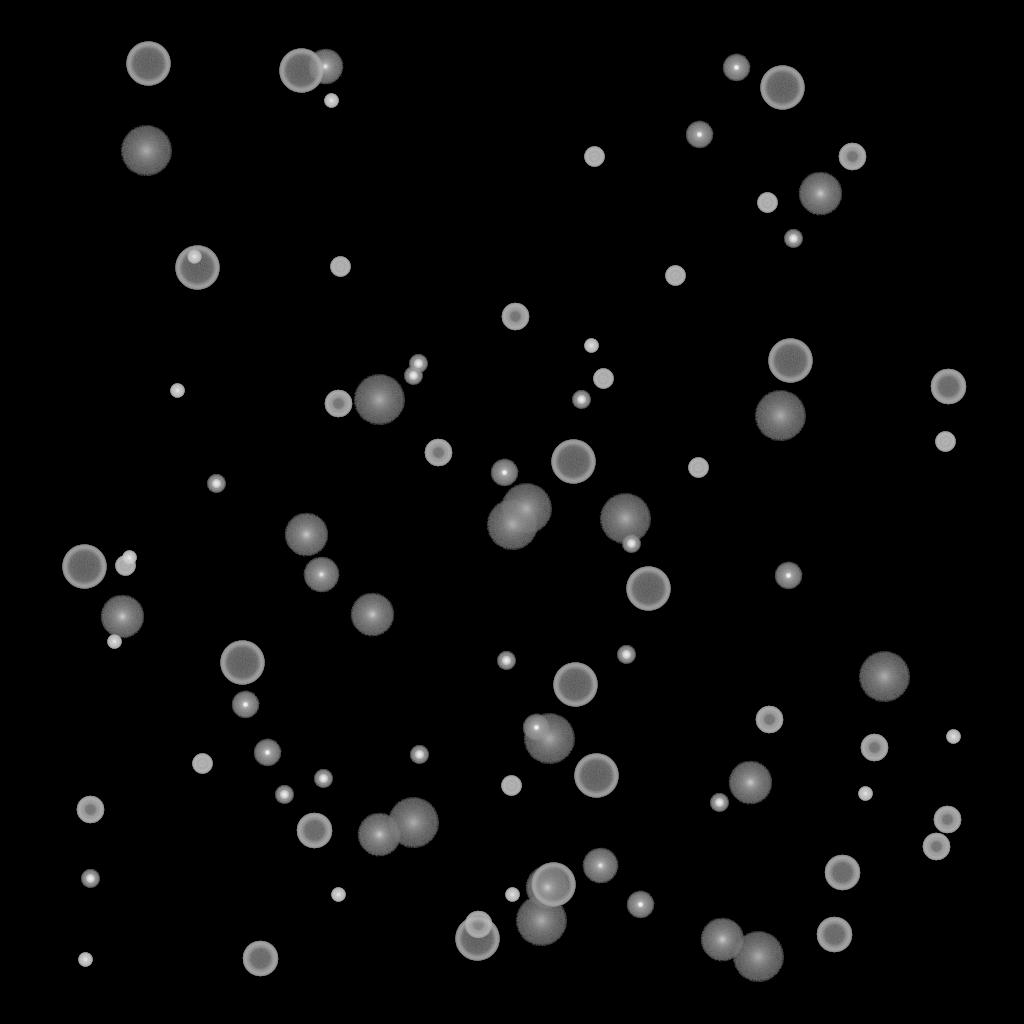depth:-10: (522, 714, 550, 742), (231, 691, 259, 719), (685, 121, 713, 149), (253, 739, 281, 767), (722, 54, 750, 82), (490, 459, 518, 487), (774, 562, 802, 590), (626, 891, 654, 919)
depth:-20: (207, 475, 225, 493), (81, 870, 99, 888), (410, 746, 428, 764), (710, 794, 728, 812), (572, 391, 590, 409), (617, 646, 635, 664), (622, 535, 640, 553), (314, 770, 332, 788), (409, 355, 427, 373), (784, 230, 802, 248), (497, 652, 515, 670), (275, 786, 293, 804), (404, 367, 422, 385)
depth:-30: (187, 250, 201, 264), (858, 787, 872, 801), (331, 888, 345, 902), (170, 384, 184, 398), (584, 339, 598, 353), (122, 551, 136, 565), (324, 94, 338, 108), (505, 888, 519, 902), (107, 635, 121, 649), (946, 730, 960, 744), (78, 953, 92, 967)
depth:-40: (665, 266, 685, 286), (935, 432, 955, 452), (192, 754, 212, 774), (593, 369, 613, 389), (330, 257, 350, 277), (688, 458, 708, 478), (757, 193, 777, 213), (501, 776, 521, 796), (115, 556, 135, 576), (584, 147, 604, 167)
depth:-50: (933, 806, 961, 834), (464, 911, 492, 939), (755, 706, 783, 734), (922, 833, 950, 861), (76, 796, 104, 824), (324, 390, 352, 418), (838, 143, 866, 171), (501, 303, 529, 331), (860, 734, 888, 762), (424, 439, 452, 467)
depth:-60: (824, 855, 860, 891), (930, 369, 966, 405), (296, 813, 332, 849), (242, 941, 278, 977), (816, 917, 852, 953)
depth:-70: (455, 917, 499, 961), (760, 66, 804, 110), (279, 49, 323, 93), (553, 663, 597, 707), (531, 863, 575, 907), (220, 641, 264, 685), (126, 42, 170, 86), (551, 440, 595, 484), (768, 339, 812, 383), (175, 246, 219, 290), (574, 754, 618, 798), (62, 545, 106, 589), (626, 567, 670, 611)
depth:0: (582, 848, 618, 884), (307, 49, 343, 85), (303, 557, 339, 593)
depth:10: (284, 513, 328, 557), (728, 761, 772, 805), (525, 866, 569, 910), (357, 813, 401, 857), (100, 595, 144, 639), (350, 593, 394, 637), (798, 172, 842, 216), (700, 918, 744, 962)
depth:20: (732, 932, 784, 982), (387, 798, 439, 848), (754, 391, 806, 441), (353, 375, 405, 425), (500, 484, 552, 534), (120, 126, 172, 176), (523, 714, 575, 764), (858, 652, 910, 702), (599, 494, 651, 544), (515, 896, 567, 946), (486, 500, 538, 550)
